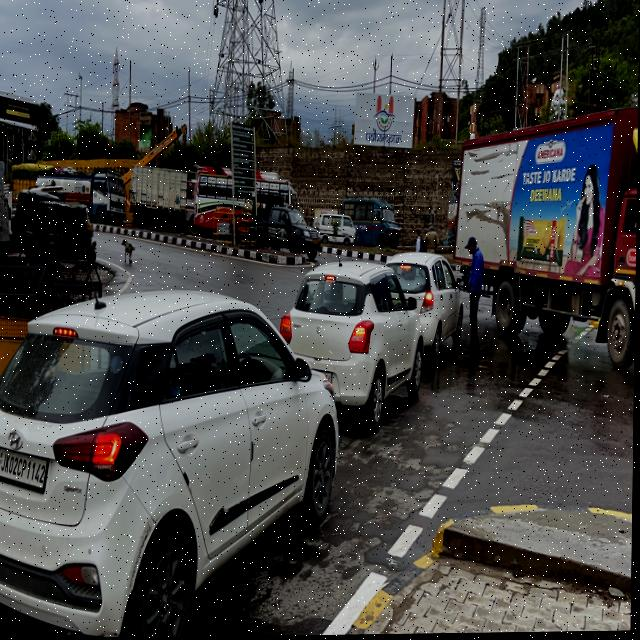plate: (0, 440, 50, 498), (313, 240, 320, 246), (26, 222, 30, 229)
